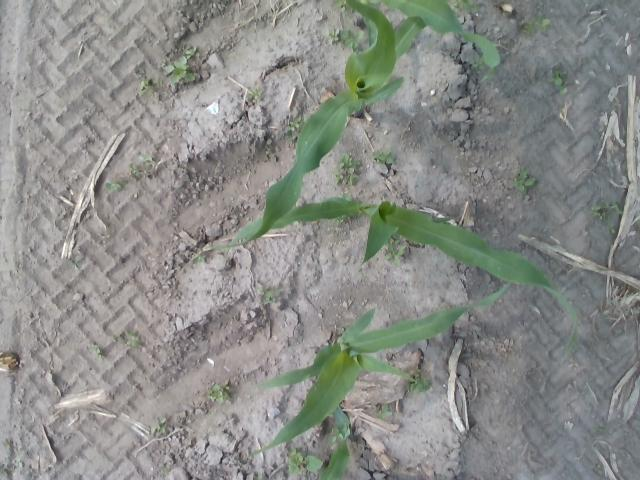Maize: (226, 196, 579, 356), (207, 0, 405, 251), (248, 280, 512, 456), (360, 0, 500, 82), (318, 406, 351, 480)
Weeds: (202, 382, 232, 404), (165, 65, 195, 83), (514, 168, 536, 192), (384, 244, 406, 265), (288, 447, 305, 474), (339, 154, 361, 174), (372, 148, 396, 164), (344, 30, 363, 48), (408, 377, 429, 392), (140, 78, 156, 96), (306, 455, 324, 471), (152, 416, 166, 434), (602, 203, 623, 215), (548, 72, 565, 86), (125, 332, 142, 346), (138, 156, 153, 170), (286, 117, 302, 130), (172, 56, 188, 69), (344, 170, 358, 184), (327, 29, 340, 44), (535, 14, 551, 26), (472, 56, 486, 69), (331, 171, 344, 184), (249, 88, 263, 100), (380, 404, 392, 418), (130, 164, 142, 177), (332, 429, 344, 442), (525, 21, 539, 32), (74, 253, 83, 270), (555, 82, 568, 93), (337, 0, 348, 12), (192, 253, 205, 262), (594, 464, 604, 475), (186, 48, 197, 58), (270, 287, 282, 296), (285, 134, 295, 144), (116, 332, 126, 342), (334, 216, 344, 226), (264, 290, 272, 302), (15, 458, 24, 468), (265, 145, 275, 154), (590, 206, 600, 215), (454, 0, 465, 8), (254, 472, 265, 480), (592, 426, 604, 433), (578, 391, 590, 398), (341, 28, 348, 40), (607, 222, 615, 232), (464, 1, 472, 11), (118, 180, 126, 190), (92, 348, 102, 356), (160, 466, 170, 474), (134, 70, 146, 76), (2, 468, 8, 479), (388, 239, 401, 244), (414, 368, 422, 376), (256, 286, 266, 292), (2, 446, 10, 452), (598, 212, 606, 218), (98, 355, 105, 361), (342, 194, 350, 199), (108, 184, 114, 190), (156, 79, 162, 85), (113, 184, 121, 188), (134, 193, 140, 198), (112, 338, 117, 341)
